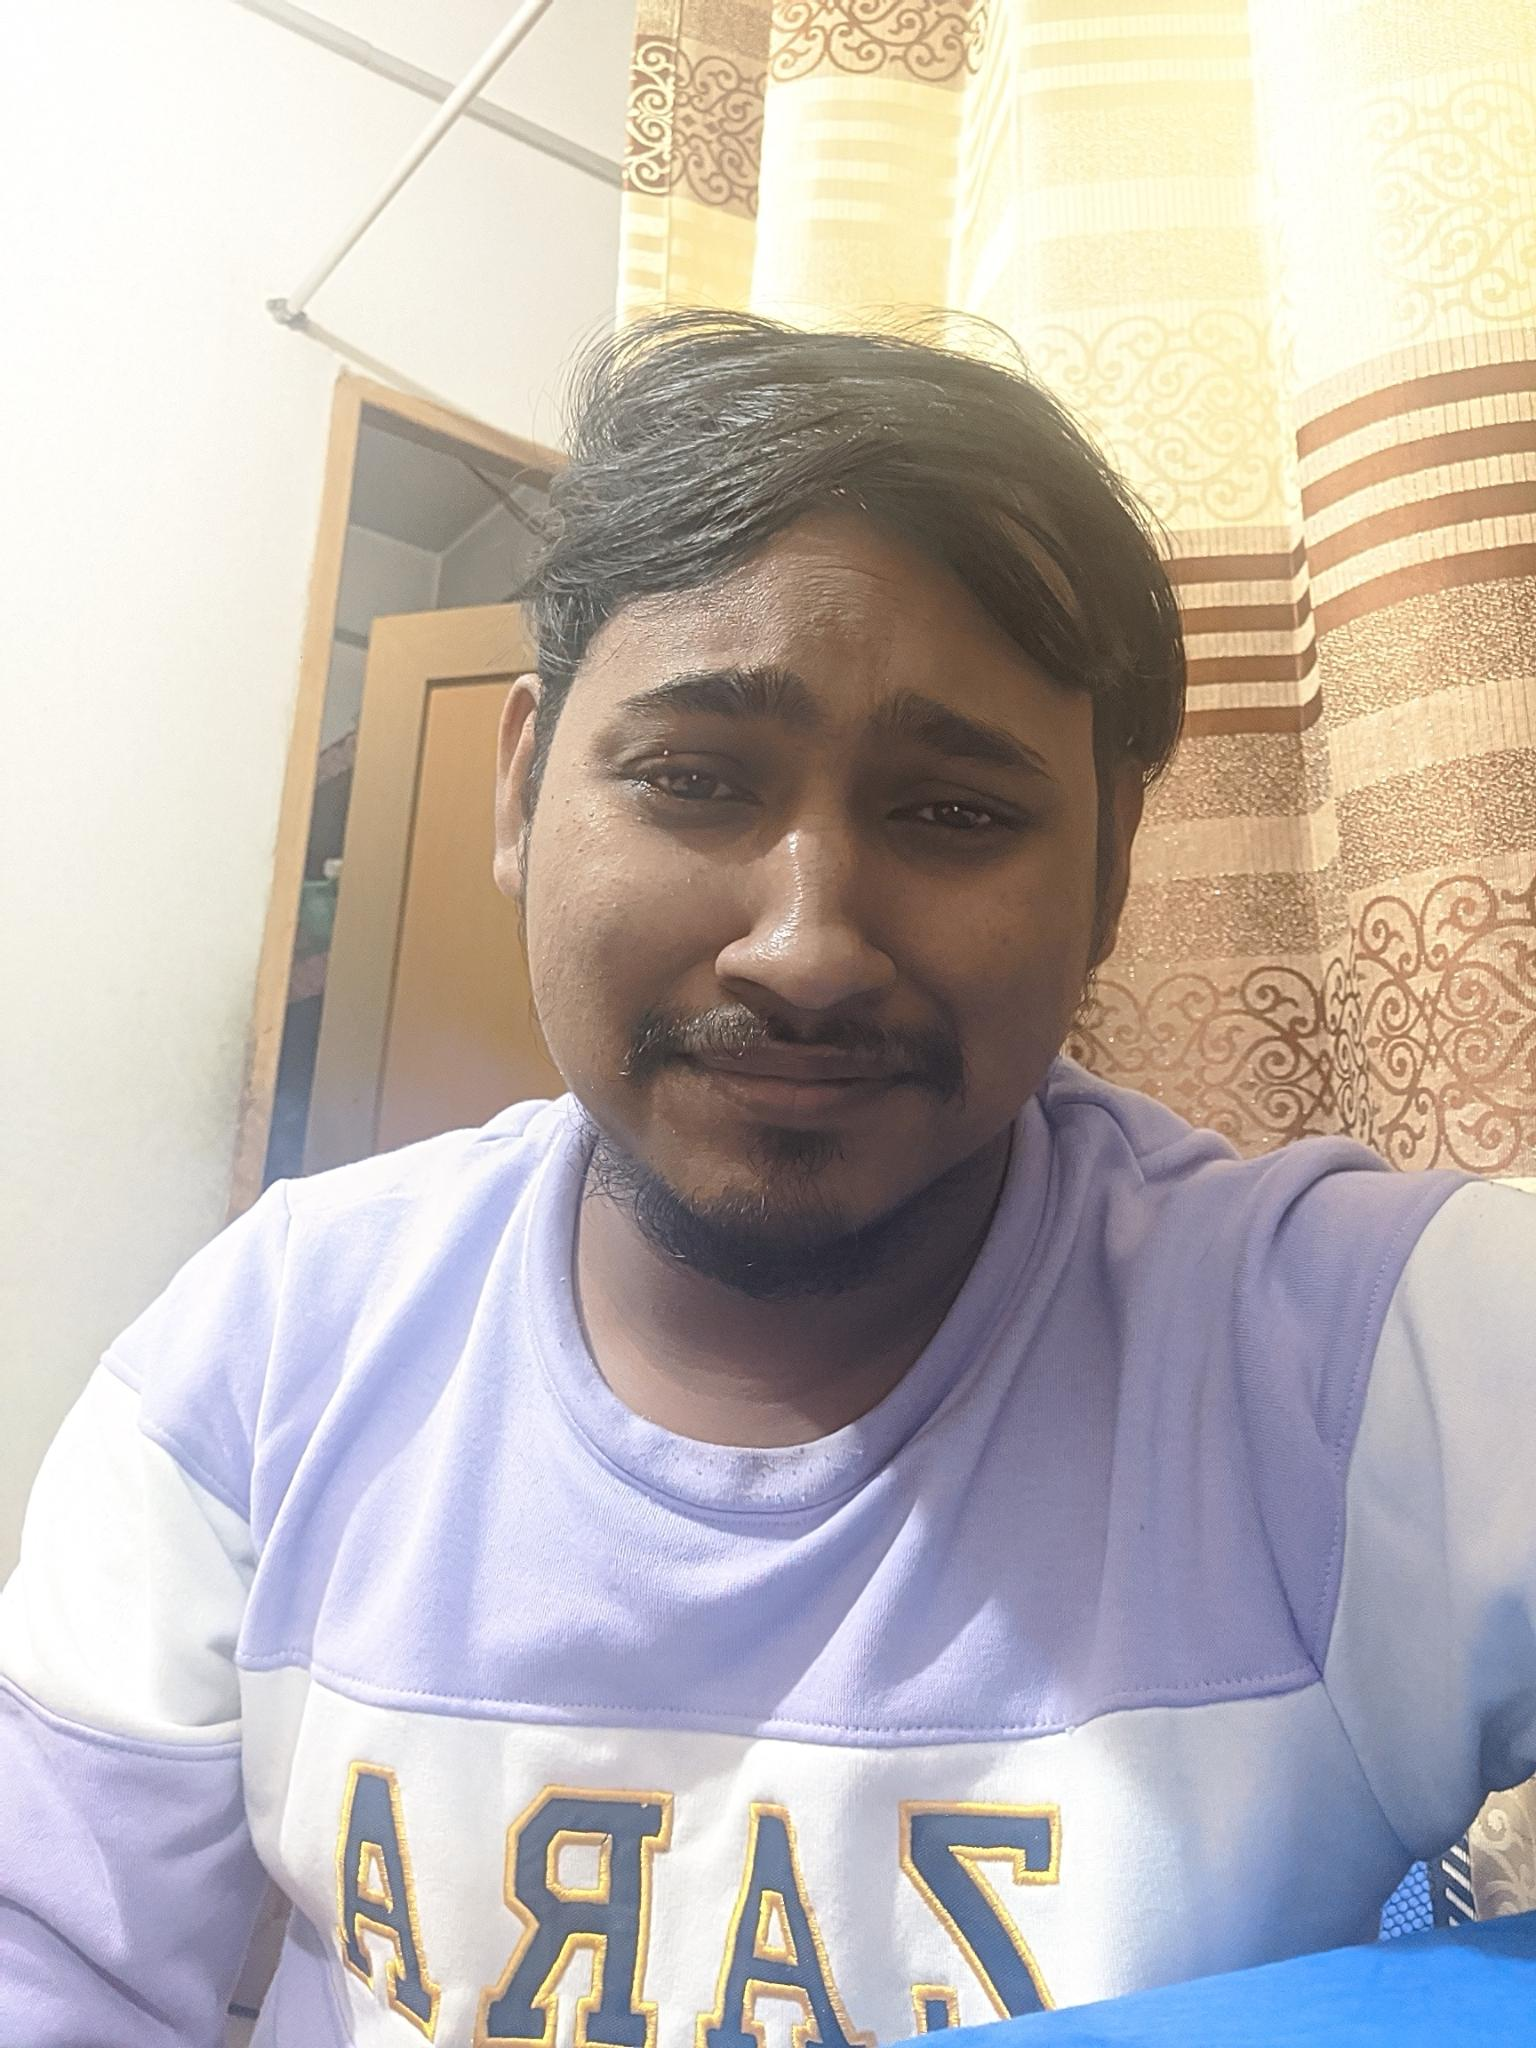Sad: (547, 592, 1078, 1268)
